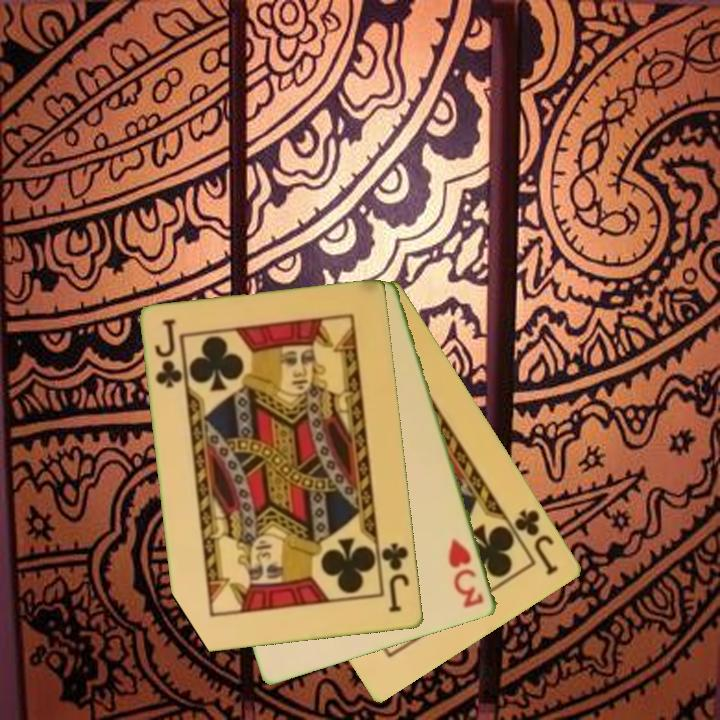3h: (445, 535, 487, 611)
Jc: (511, 506, 562, 579), (378, 539, 413, 616), (152, 315, 185, 392)
